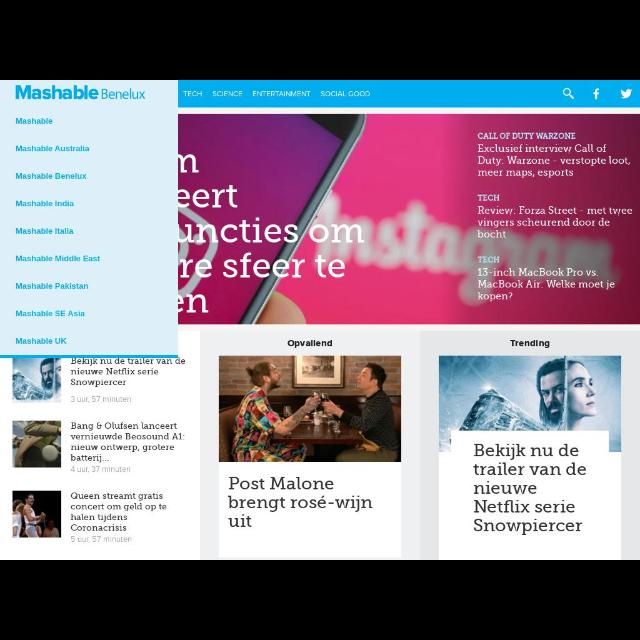backgroundimage: (179, 114, 639, 323)
icon: (563, 88, 575, 100), (591, 87, 601, 101), (620, 90, 632, 100)
image: (219, 356, 399, 462), (437, 358, 619, 452), (15, 84, 147, 102), (13, 490, 61, 538), (13, 421, 61, 467), (12, 360, 62, 402)
panel: (2, 82, 178, 358)
text: (178, 152, 366, 318), (474, 443, 584, 531), (474, 131, 634, 181), (228, 473, 372, 527), (476, 193, 634, 241), (476, 256, 618, 300), (71, 422, 185, 462), (70, 493, 168, 531), (72, 358, 190, 388), (15, 255, 100, 263), (15, 146, 90, 154), (286, 339, 336, 351), (16, 282, 90, 290), (15, 172, 87, 180), (15, 310, 86, 318), (70, 395, 134, 403), (70, 536, 132, 544), (16, 199, 76, 207), (71, 465, 131, 473), (16, 226, 74, 234), (252, 91, 310, 99), (510, 339, 550, 349), (320, 91, 370, 99), (16, 116, 54, 125), (17, 338, 68, 344), (212, 91, 244, 99), (183, 92, 203, 98)
toolbar: (177, 81, 638, 107)
